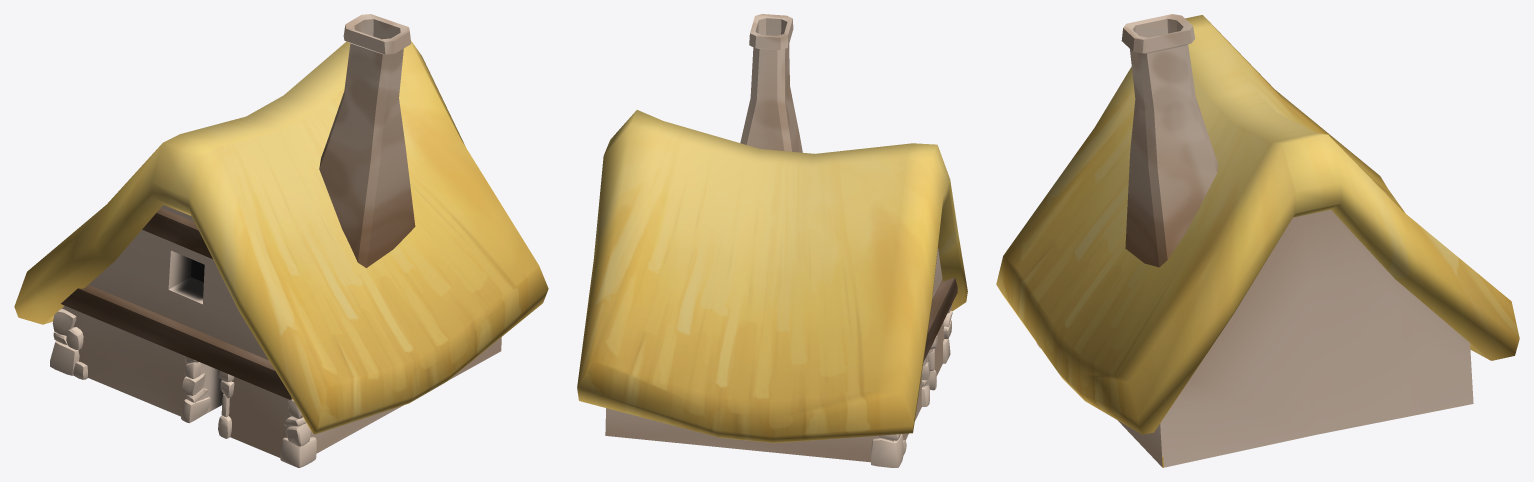
File: house_4.fbx
3 renders of one model, left to right at view 1: azimuth 30°, elevation 25°; view 2: azimuth 150°, elevation 25°; view 3: azimuth 270°, elevation 25°, orthographic. The views are drawn at different scales.
Visible parts, largest first — view 1: house_4; view 2: house_4; view 3: house_4.
Part boxes in pixels (<box>): house_4: <box>14,14,548,467</box>; house_4: <box>577,14,967,467</box>; house_4: <box>996,14,1519,467</box>.
Size of the model in its own units: 857 by 716 by 876.
